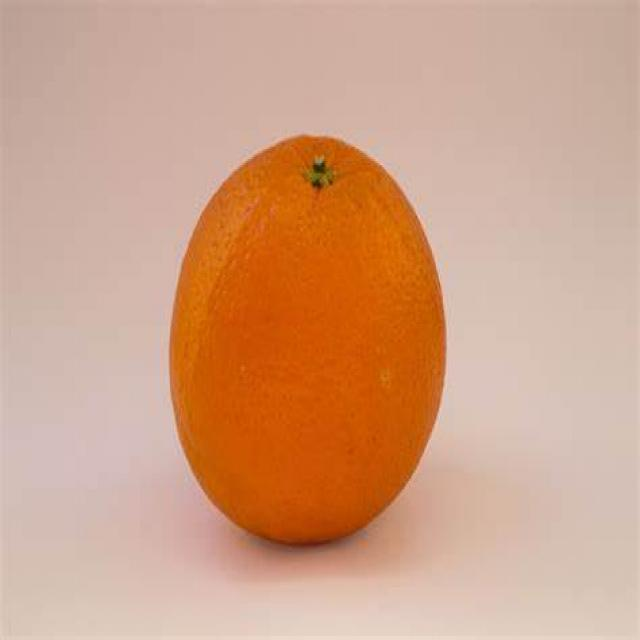Orange: (169, 133, 451, 547)
